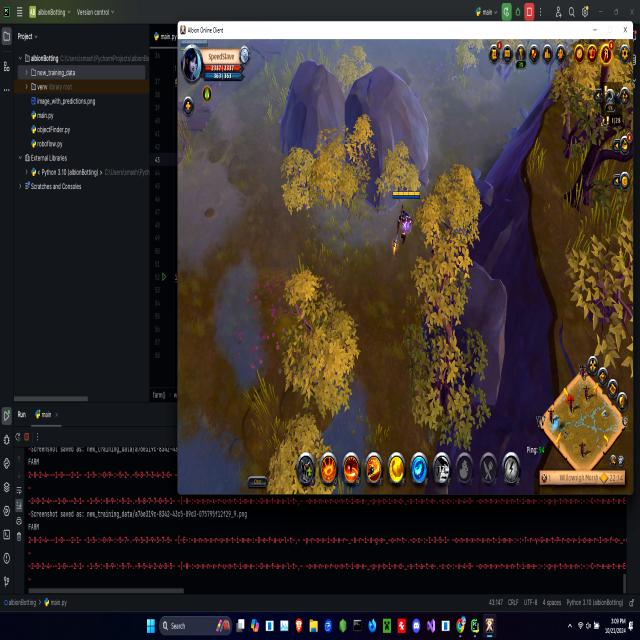red: (390, 184, 424, 266)
